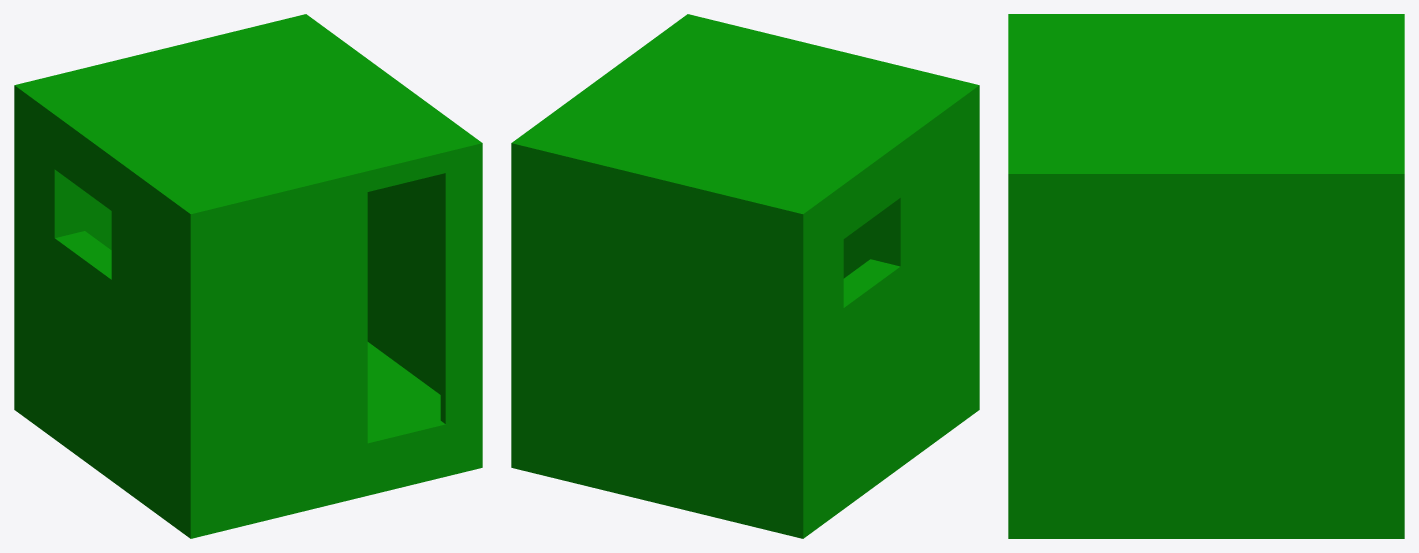
The model's file is chambre3_rdc.obj.
3 renders of one model, left to right at view 1: azimuth 30°, elevation 25°; view 2: azimuth 150°, elevation 25°; view 3: azimuth 270°, elevation 25°, orthographic. The views are drawn at different scales.
Visible parts, largest first — view 1: Chambre3_RDC_Cube.014; view 2: Chambre3_RDC_Cube.014; view 3: Chambre3_RDC_Cube.014.
Part boxes in pixels (x1,y1,x2,y2): Chambre3_RDC_Cube.014: (14, 14, 482, 538); Chambre3_RDC_Cube.014: (511, 14, 979, 538); Chambre3_RDC_Cube.014: (1008, 14, 1404, 538).
Size of the model in its own units: 2.92 by 3.1 by 3.05.
